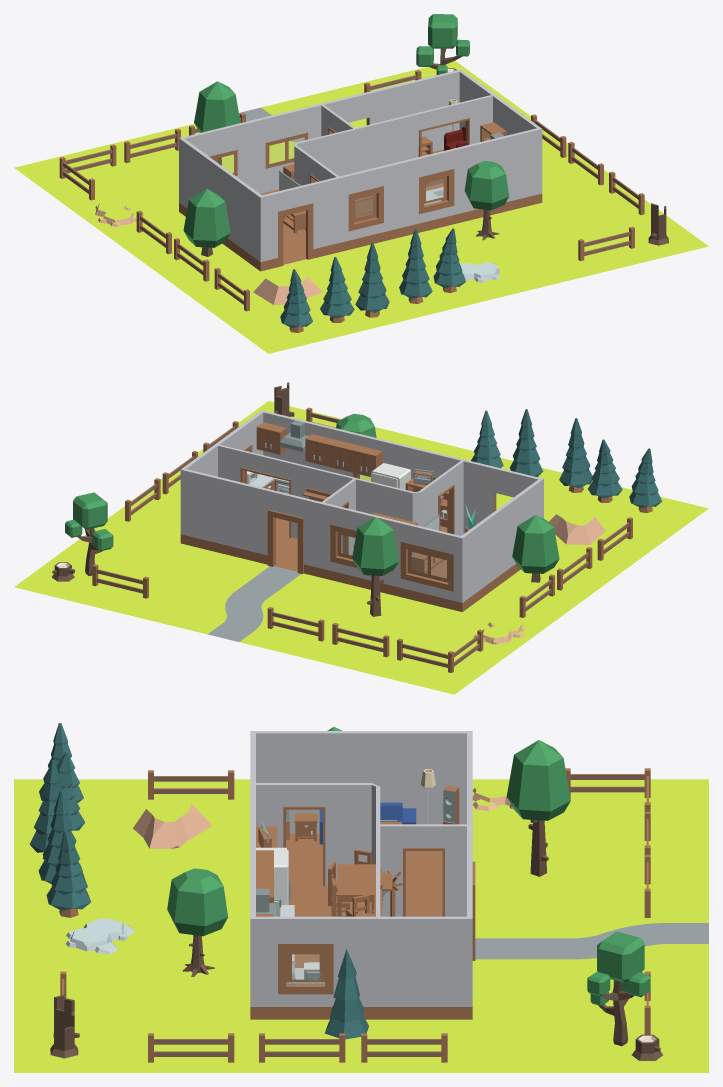
The model's file is Tile_House_1_Base.fbx.
3 views of the same model, one above another, from view 1: azimuth 30°, elevation 25°; view 2: azimuth 150°, elevation 25°; view 3: azimuth 270°, elevation 25° (orthographic). The views are drawn at different scales.
Parts seen in each view (by area): view 1: Plane.006; view 2: Plane.006; view 3: Plane.006.
Boxes of the visible parts, left/top/right/bottom form: Plane.006: left=14, top=14, right=708, bottom=353; Plane.006: left=14, top=382, right=708, bottom=694; Plane.006: left=14, top=723, right=708, bottom=1072.
Bounding box in the file's own units: 250 × 59.96 × 250.
